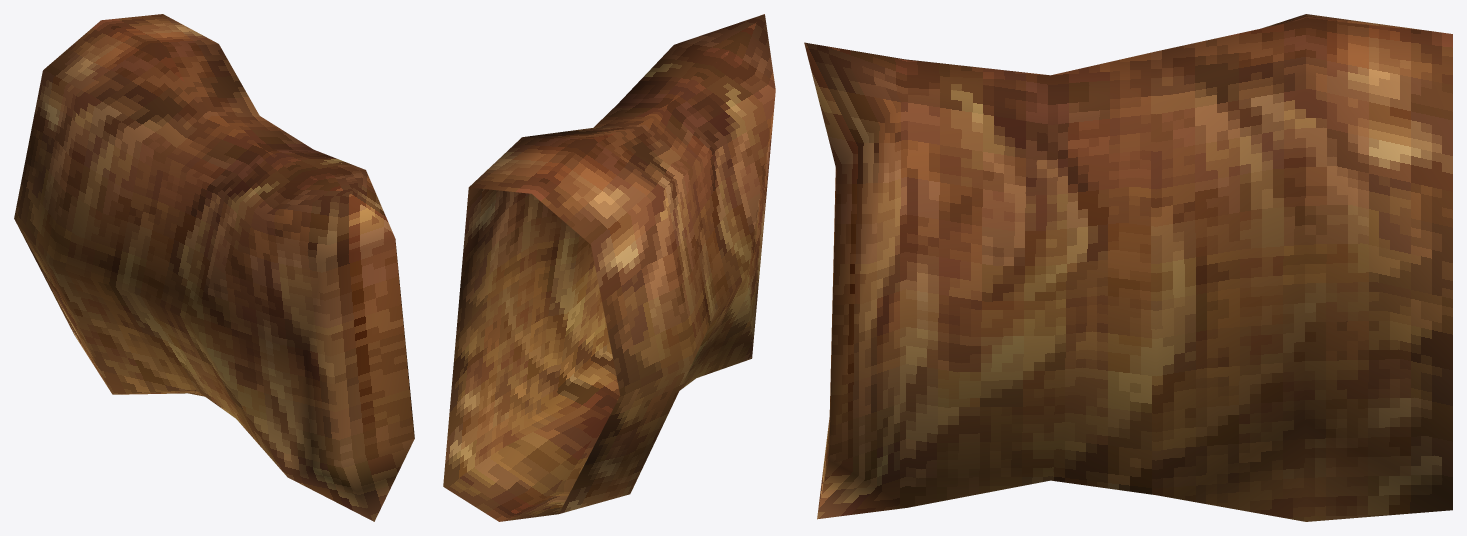
File: INST_SWORDLIGHT_GRAIN_BAGSINGLE.fbx
3 views of the same model, side by side, from view 1: azimuth 30°, elevation 25°; view 2: azimuth 150°, elevation 25°; view 3: azimuth 270°, elevation 25° (orthographic). The views are drawn at different scales.
Parts seen in each view (by area): view 1: INST_SWORDLIGHT_GRAIN_BAGSINGLE; view 2: INST_SWORDLIGHT_GRAIN_BAGSINGLE; view 3: INST_SWORDLIGHT_GRAIN_BAGSINGLE.
Boxes of the visible parts, x1=… form: INST_SWORDLIGHT_GRAIN_BAGSINGLE: x1=14, y1=14, x2=414, y2=521; INST_SWORDLIGHT_GRAIN_BAGSINGLE: x1=443, y1=14, x2=775, y2=521; INST_SWORDLIGHT_GRAIN_BAGSINGLE: x1=804, y1=14, x2=1452, y2=521.
Bounding box in the file's own units: 3311 × 5813 × 7137.
Materials: 1 (1 with a texture image).
